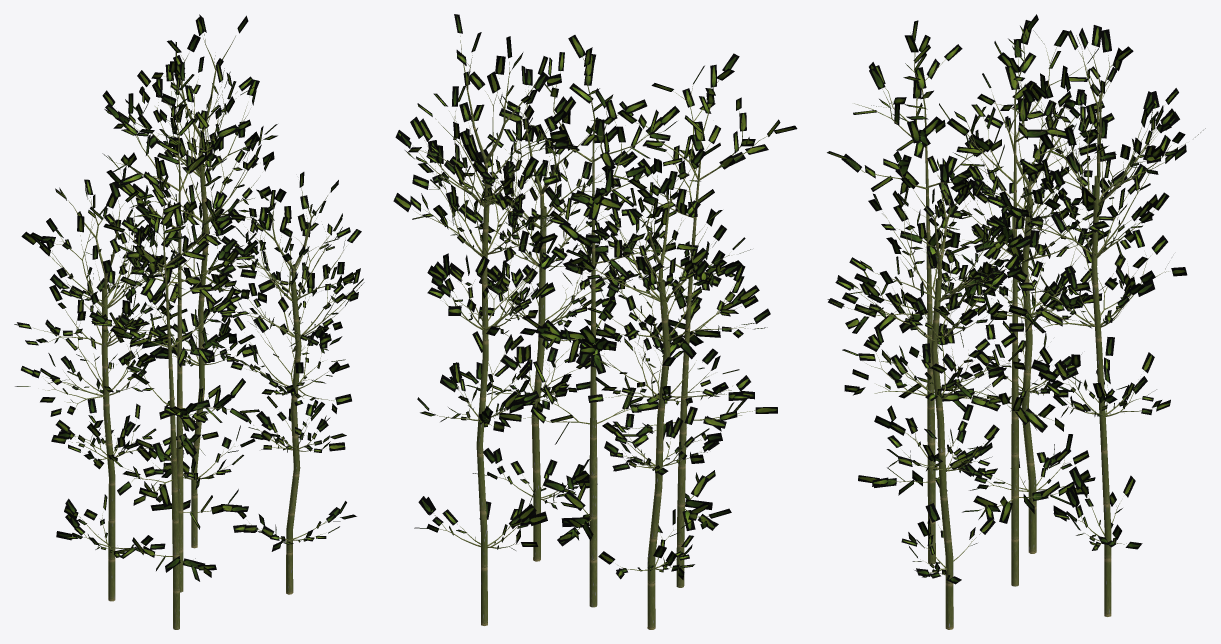
Rendered from SM_Bamboo.fbx.
3 views of the same model, side by side, from view 1: azimuth 30°, elevation 25°; view 2: azimuth 150°, elevation 25°; view 3: azimuth 270°, elevation 25° (orthographic). The views are drawn at different scales.
Parts seen in each view (by area): view 1: SM_Bamboo; view 2: SM_Bamboo; view 3: SM_Bamboo.
Boxes of the visible parts, x1,y1,x2,y2 form: SM_Bamboo: [14, 14, 364, 629]; SM_Bamboo: [393, 14, 797, 629]; SM_Bamboo: [827, 14, 1205, 629].
Bounding box in the file's own units: 718 × 693 × 1185.
2 materials, 2 textured.
